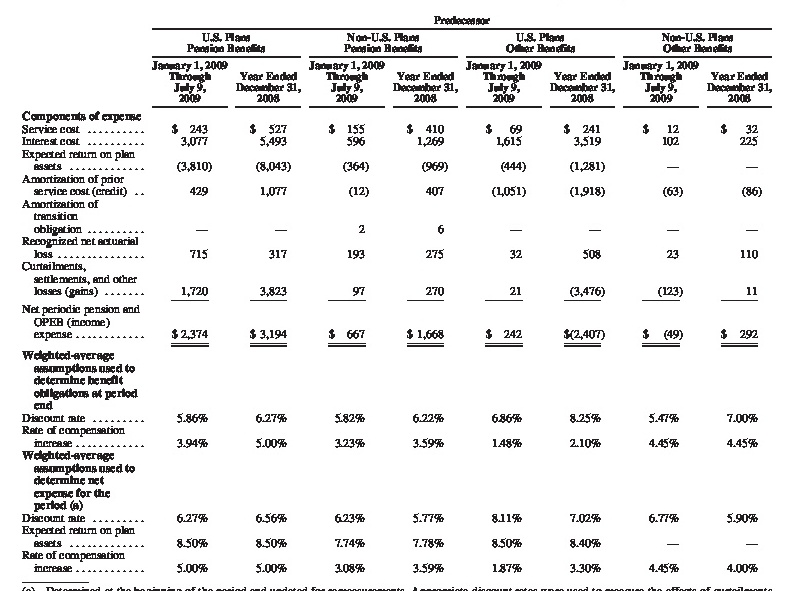table: (0, 0, 791, 591)
